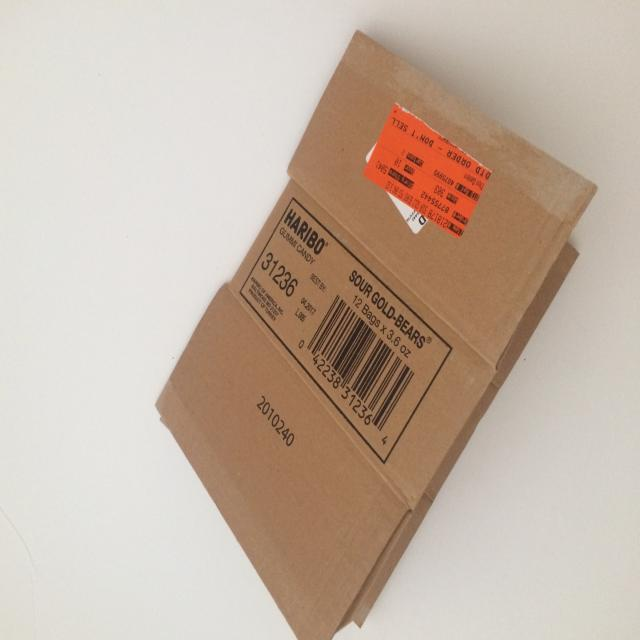cardboard: (154, 28, 597, 640)
